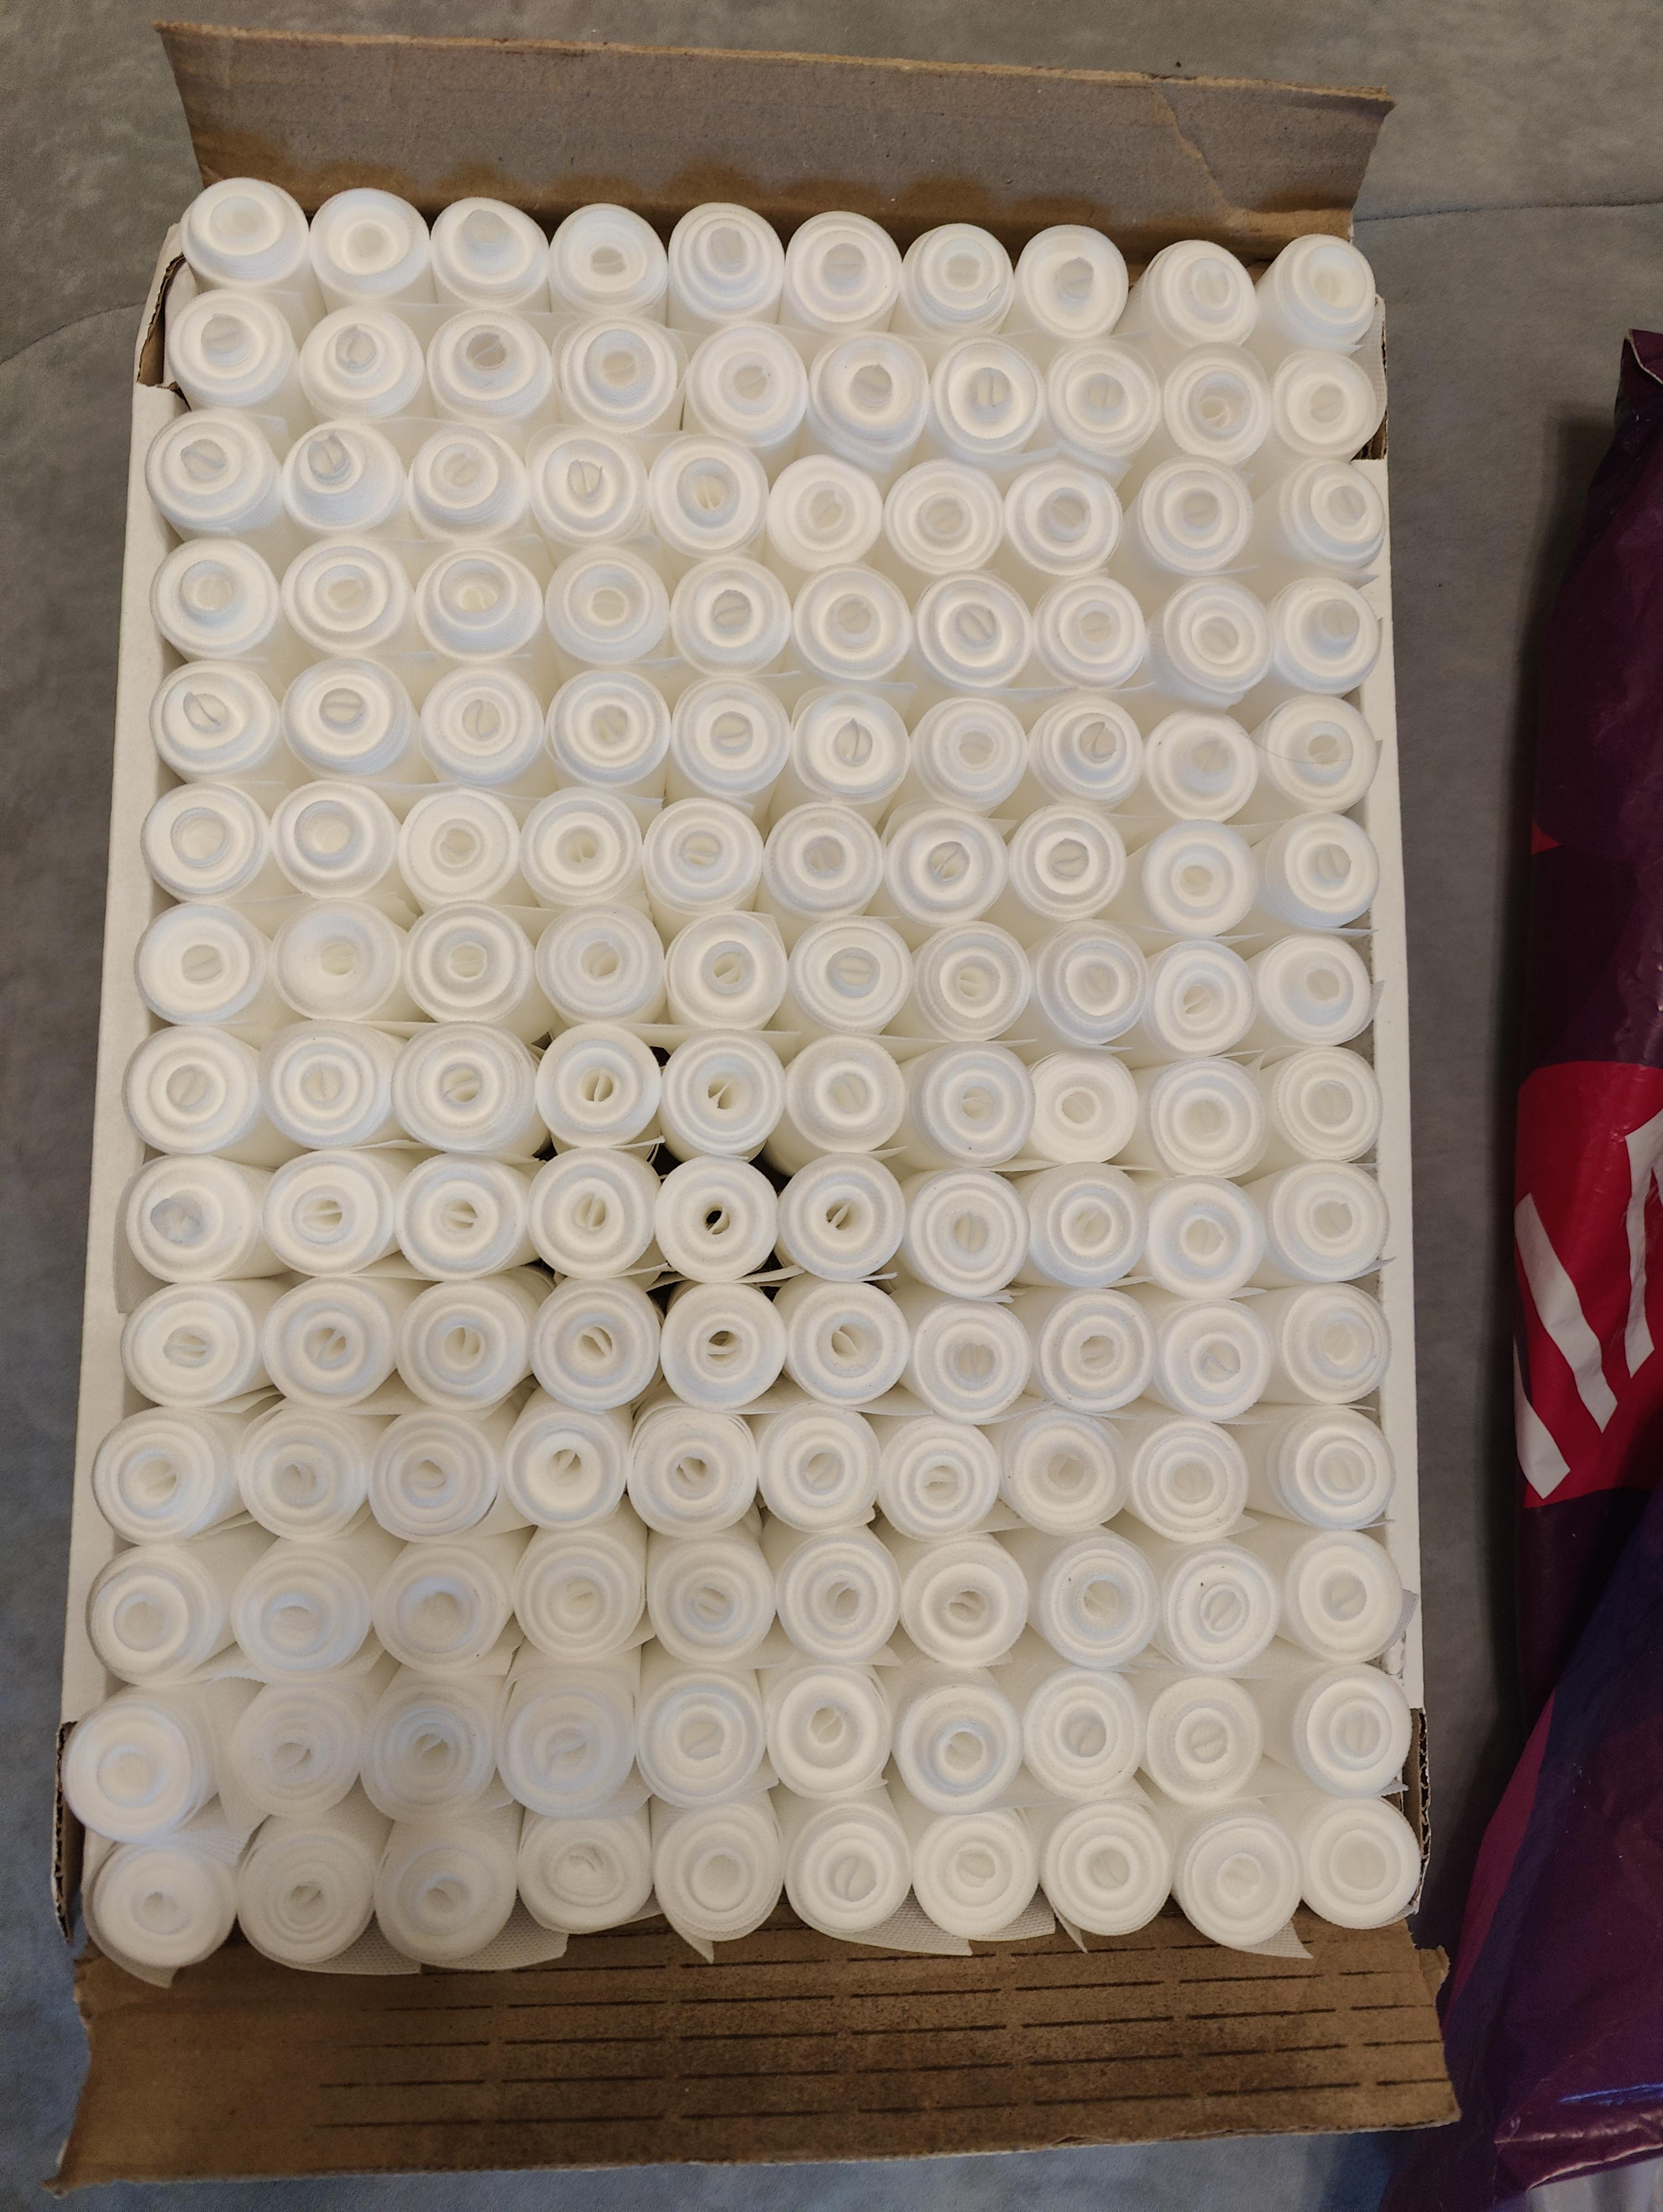roll: (232, 1798, 388, 1969), (369, 1801, 524, 1966), (222, 1663, 379, 1824), (87, 1403, 248, 1559), (362, 1655, 515, 1815), (56, 1690, 213, 1845), (494, 1658, 646, 1819), (80, 1826, 241, 1976), (80, 1538, 236, 1688), (227, 1532, 381, 1683), (231, 1396, 383, 1546), (114, 1144, 273, 1284), (1038, 1793, 1181, 1946), (514, 1794, 660, 1943), (1165, 1803, 1308, 1955), (115, 1272, 269, 1414), (255, 1268, 405, 1412), (393, 1268, 540, 1414), (367, 1529, 515, 1672), (648, 1794, 786, 1948), (388, 1020, 540, 1158), (500, 1387, 643, 1532), (508, 1518, 652, 1663), (119, 1017, 266, 1158), (631, 1662, 769, 1812), (390, 1146, 540, 1282), (365, 1407, 510, 1546), (1291, 1791, 1429, 1938), (779, 1794, 915, 1943), (1239, 1279, 1394, 1408), (526, 1272, 667, 1414), (889, 1674, 1027, 1819), (624, 1400, 765, 1539), (905, 1800, 1043, 1943), (257, 1143, 404, 1277), (760, 1658, 894, 1805), (1029, 1529, 1167, 1670), (639, 1524, 776, 1667), (1275, 1524, 1411, 1667), (767, 1525, 903, 1667), (141, 407, 283, 543), (1259, 1403, 1403, 1538), (255, 1015, 400, 1148), (522, 1144, 664, 1279), (1018, 1663, 1151, 1807), (1286, 1662, 1418, 1805), (777, 1275, 914, 1414), (129, 896, 269, 1031), (1151, 1538, 1286, 1677), (893, 1532, 1029, 1669), (1256, 1155, 1396, 1288), (1123, 1412, 1259, 1546), (872, 1412, 1008, 1546), (147, 533, 281, 669), (164, 287, 300, 421), (398, 898, 538, 1029), (266, 893, 405, 1024), (681, 320, 812, 460), (1139, 1670, 1270, 1810), (774, 1150, 910, 1282), (145, 653, 281, 786), (529, 1020, 667, 1151), (278, 653, 417, 783), (662, 201, 788, 344), (898, 1165, 1032, 1298), (138, 778, 273, 910), (994, 1403, 1128, 1536), (180, 173, 316, 304), (278, 533, 416, 662), (805, 330, 935, 468), (540, 542, 678, 671), (529, 900, 669, 1027), (648, 1150, 781, 1282), (653, 1282, 786, 1415), (306, 183, 437, 318), (414, 659, 550, 788), (1031, 1284, 1162, 1417), (1149, 1293, 1280, 1426), (751, 1403, 882, 1536), (393, 783, 528, 912), (267, 776, 404, 903), (777, 206, 905, 342), (1261, 573, 1387, 711), (655, 1027, 786, 1158), (903, 1293, 1034, 1424), (1252, 690, 1384, 821), (515, 786, 650, 914), (554, 313, 688, 440), (779, 1031, 912, 1158), (543, 664, 676, 791), (664, 676, 791, 809), (638, 793, 767, 923), (1139, 1172, 1270, 1300), (643, 432, 770, 563), (1141, 1054, 1273, 1179), (423, 306, 557, 430), (295, 302, 430, 426), (276, 416, 411, 540), (1127, 234, 1261, 358), (1018, 1158, 1148, 1286), (1261, 1043, 1390, 1171), (907, 1041, 1038, 1167), (1252, 229, 1378, 360), (926, 334, 1050, 467), (411, 542, 545, 664), (1135, 816, 1263, 944), (1134, 454, 1261, 582), (879, 802, 1008, 928), (524, 423, 653, 549), (760, 798, 889, 924), (905, 688, 1031, 818), (1151, 575, 1277, 704), (784, 910, 915, 1034), (1041, 335, 1165, 467), (1246, 926, 1378, 1048), (664, 554, 790, 681), (786, 685, 912, 812), (760, 451, 886, 578), (879, 456, 1006, 582), (788, 561, 914, 688), (1029, 919, 1155, 1047), (659, 905, 788, 1029), (543, 199, 673, 323), (1258, 811, 1387, 935), (404, 423, 535, 545), (1137, 933, 1263, 1059), (910, 568, 1036, 694), (1270, 456, 1390, 587), (1024, 688, 1149, 812), (1031, 570, 1155, 695), (426, 192, 554, 315), (1010, 220, 1134, 344), (1004, 800, 1130, 923), (999, 460, 1125, 582), (1156, 344, 1279, 470), (908, 919, 1034, 1040), (1139, 706, 1261, 826), (1020, 1048, 1142, 1167), (1266, 346, 1385, 467), (901, 218, 1017, 328)
